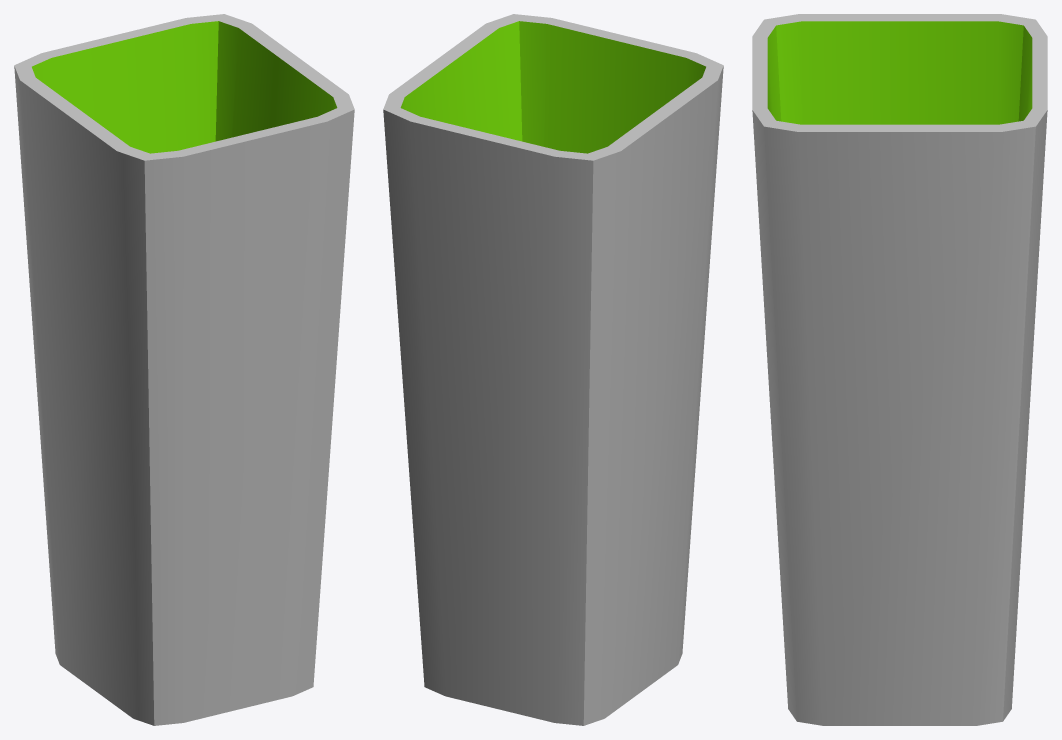
Rendered from Vase_02_N.FBX.
3 renders of one model, left to right at view 1: azimuth 30°, elevation 25°; view 2: azimuth 150°, elevation 25°; view 3: azimuth 270°, elevation 25°, orthographic. The views are drawn at different scales.
Parts seen in each view (by area): view 1: Vase_02; view 2: Vase_02; view 3: Vase_02.
Part boxes in pixels (x1,y1,x2,y2): Vase_02: [14, 14, 354, 725]; Vase_02: [383, 14, 723, 725]; Vase_02: [752, 14, 1047, 725].
Bounding box in the file's own units: 37.5 × 90 × 39.6.
